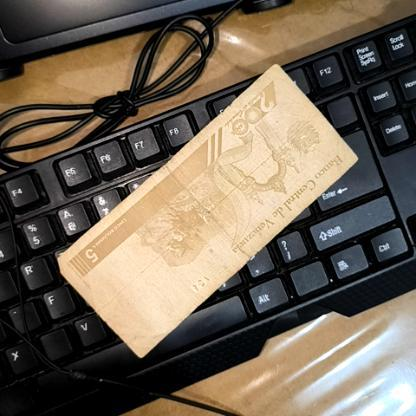five-back-vef: (53, 60, 362, 360)
